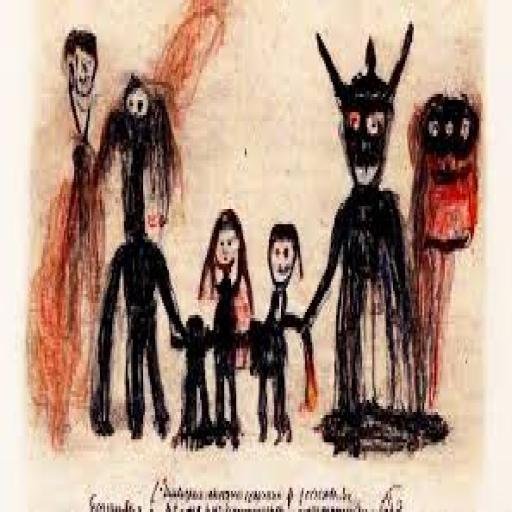person: (314, 13, 423, 456), (94, 59, 192, 448), (198, 204, 265, 462), (404, 89, 496, 257), (51, 26, 113, 240), (258, 220, 312, 444), (171, 307, 222, 458)
